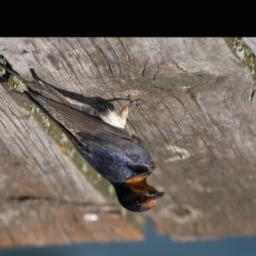Swallow: (0, 60, 166, 214)
